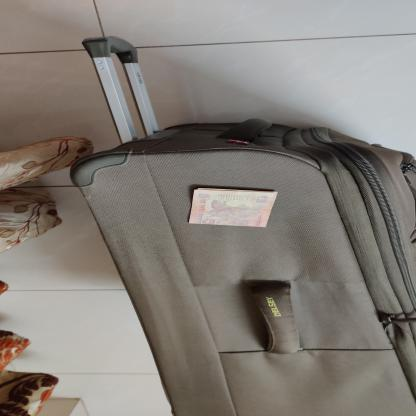Old10Back: (188, 188, 278, 228)
